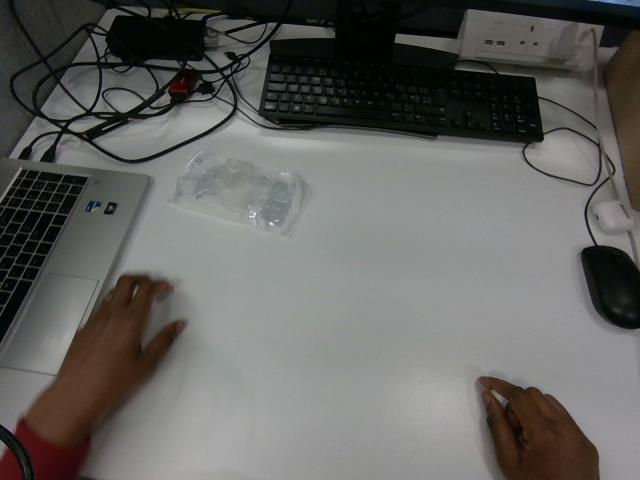gallipot: (173, 150, 301, 235)
